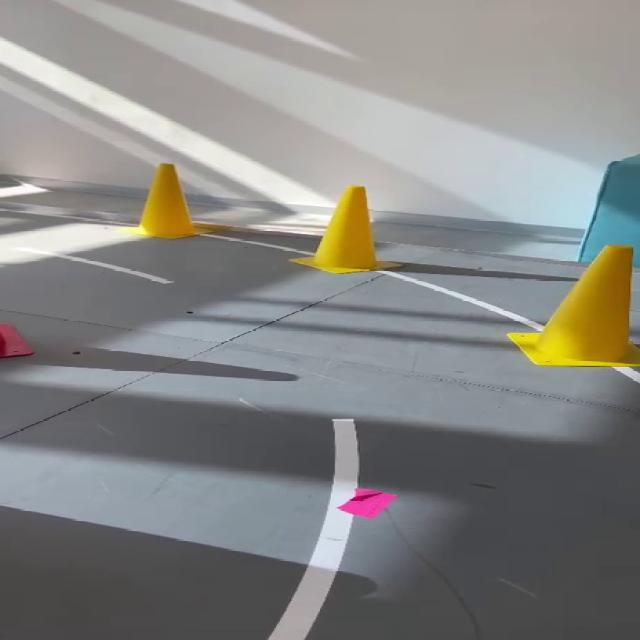Cone-red: (0, 325, 32, 358)
Cones-yellow: (509, 245, 639, 366), (291, 186, 385, 273), (132, 164, 221, 238)
